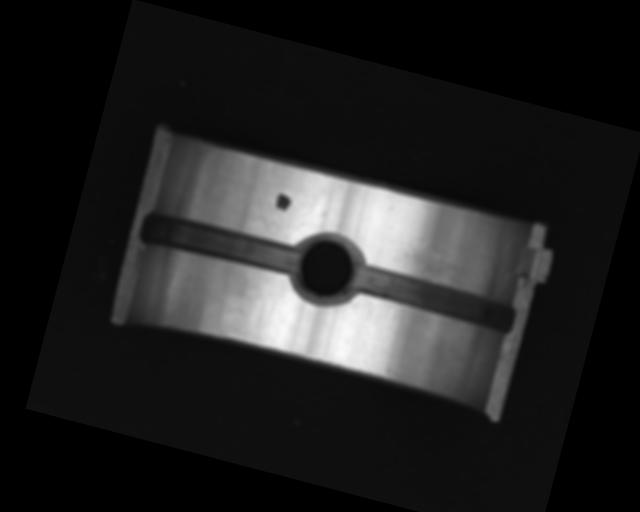blot: (274, 192, 293, 213)
gap: (347, 261, 520, 336), (138, 207, 300, 279)
hole: (284, 226, 366, 310)
nick: (370, 305, 396, 359)
scratch: (393, 235, 491, 294)
